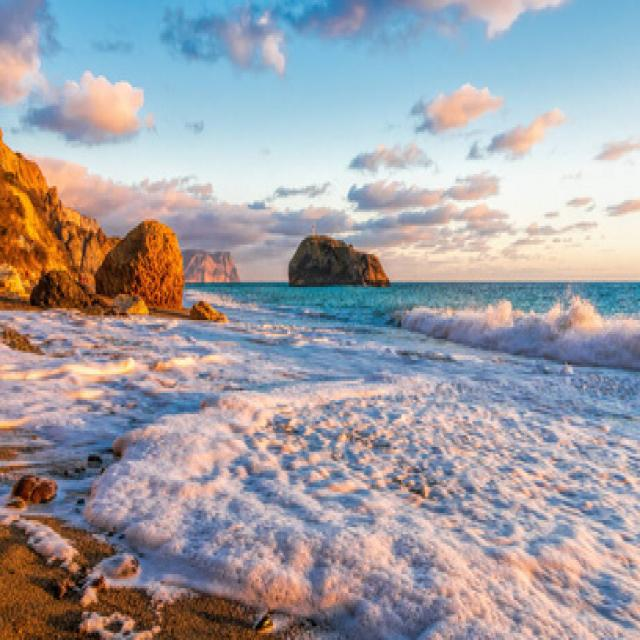island: (280, 205, 392, 294)
